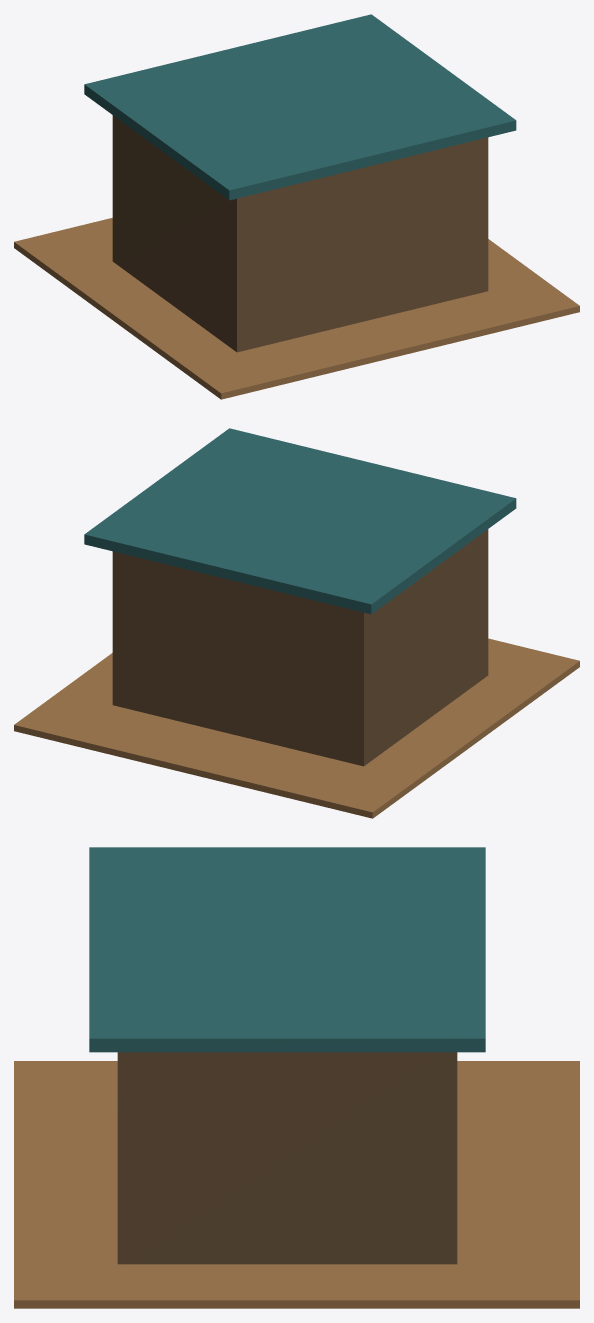
File: Insulated-barn.glb
3 renders of one model, top to bottom at view 1: azimuth 30°, elevation 25°; view 2: azimuth 150°, elevation 25°; view 3: azimuth 270°, elevation 25°, orthographic. The views are drawn at different scales.
Parts seen in each view (by area): view 1: insulated-barn-static-insulated-barn-wall, insulated-barn-static-insulated-barn-teal, insulated-barn-static-insulated-barn-earth; view 2: insulated-barn-static-insulated-barn-wall, insulated-barn-static-insulated-barn-teal, insulated-barn-static-insulated-barn-earth; view 3: insulated-barn-static-insulated-barn-teal, insulated-barn-static-insulated-barn-wall, insulated-barn-static-insulated-barn-earth.
Boxes of the visible parts, x1,y1,x2,y2 form: insulated-barn-static-insulated-barn-wall: (112,115,488,352); insulated-barn-static-insulated-barn-teal: (84,14,516,200); insulated-barn-static-insulated-barn-earth: (14,218,579,399); insulated-barn-static-insulated-barn-wall: (112,529,488,766); insulated-barn-static-insulated-barn-teal: (84,428,516,614); insulated-barn-static-insulated-barn-earth: (14,638,579,818); insulated-barn-static-insulated-barn-teal: (89,847,485,1052); insulated-barn-static-insulated-barn-wall: (117,1052,457,1264); insulated-barn-static-insulated-barn-earth: (14,1061,579,1308).
Bounding box in the file's own units: 6 × 2.88 × 6.
